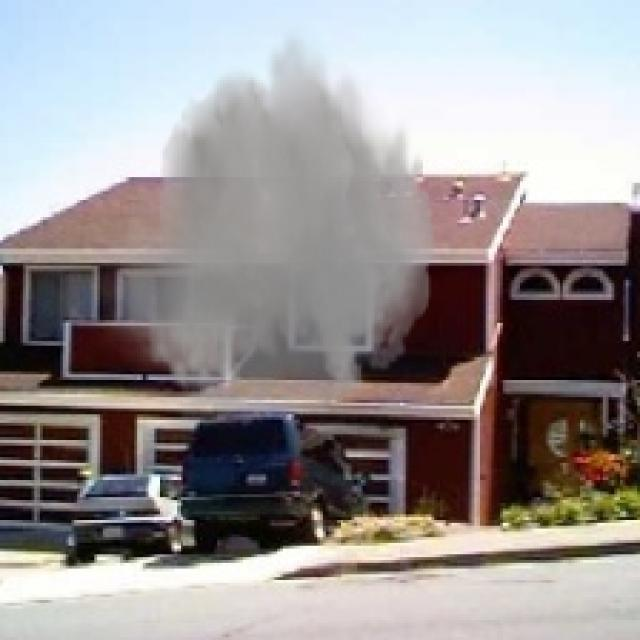smoke: (91, 20, 443, 446)
